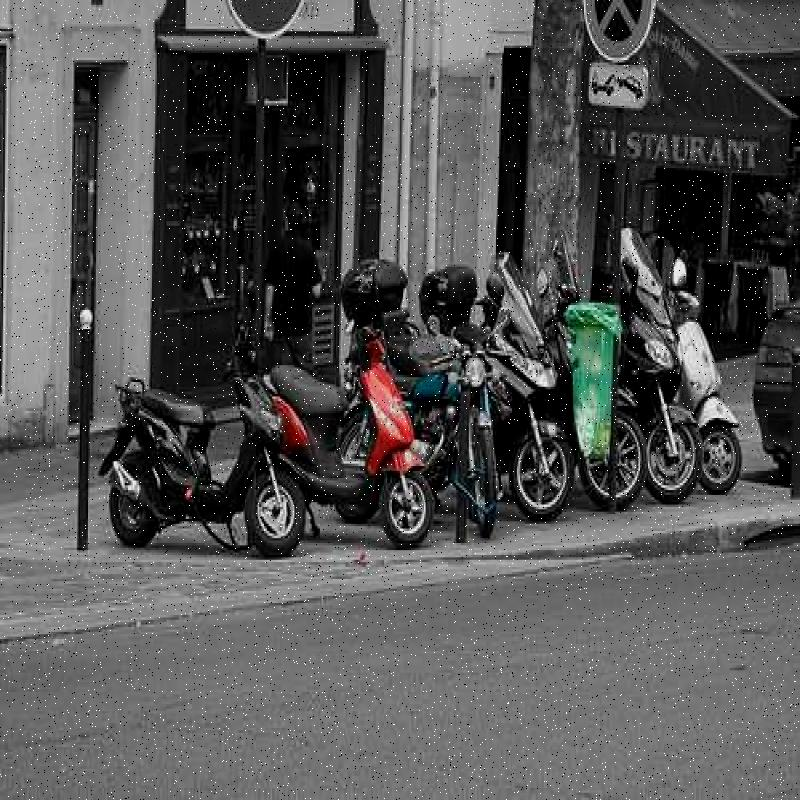bike: (108, 338, 309, 557), (278, 270, 419, 542), (473, 237, 586, 519), (602, 229, 705, 499), (656, 235, 754, 491), (420, 282, 506, 553)
